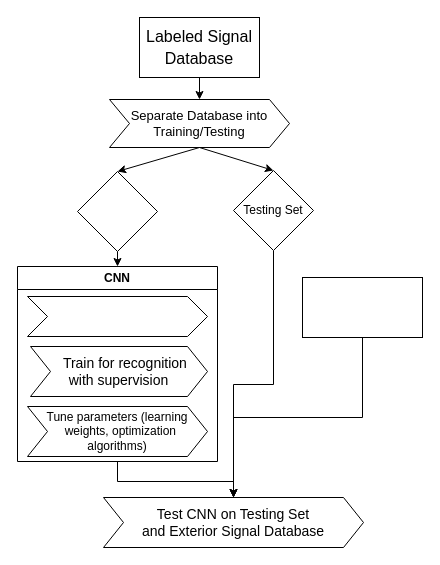
Some shapes in this 440 by 565 pixel diagram are drawn without their labels. Here are the shapes that lost their labels. From the top down, the centre of each, then its label:
[117,211]: Training Set
[117,316]: Extract labeled kernels
[362,307]: Exterior Signal Database
